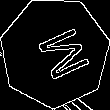M_SW: (22, 21, 87, 84)
